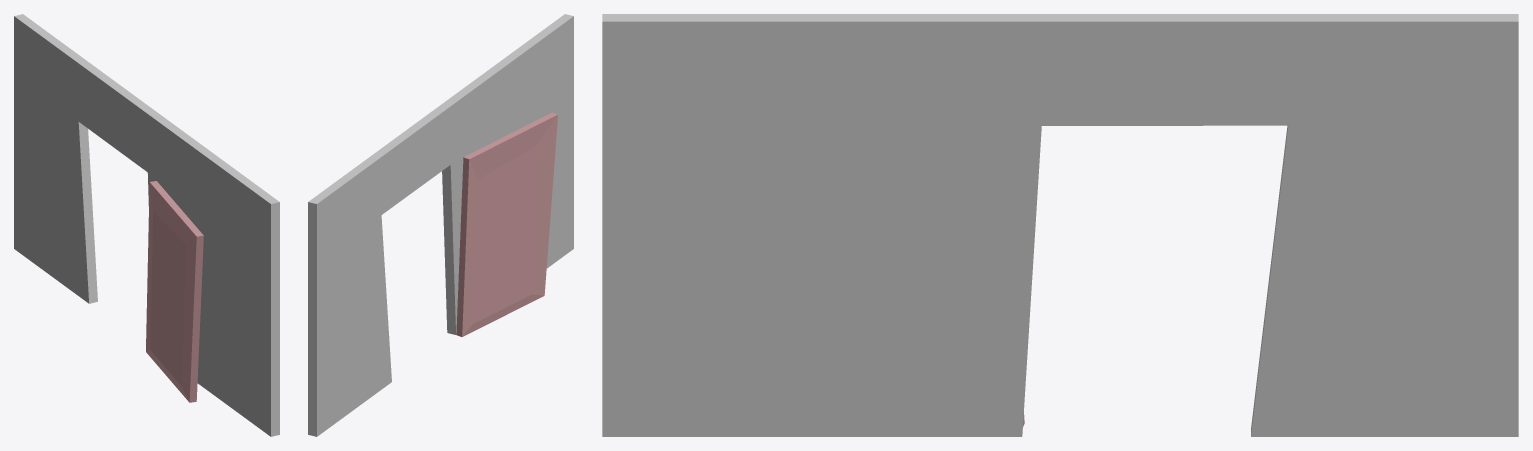
File: DoorsRoomSwingGroup.fbx
3 views of the same model, side by side, from view 1: azimuth 30°, elevation 25°; view 2: azimuth 150°, elevation 25°; view 3: azimuth 270°, elevation 25° (orthographic). The views are drawn at different scales.
Visible parts, largest first — view 1: SolidRoom_001, SwingingDoor; view 2: SolidRoom_001, SwingingDoor; view 3: SolidRoom_001.
Part boxes in pixels (x1=…): SolidRoom_001: x1=14, y1=14, x2=279, y2=436; SwingingDoor: x1=146, y1=181, x2=203, y2=402; SolidRoom_001: x1=308, y1=14, x2=573, y2=436; SwingingDoor: x1=456, y1=112, x2=557, y2=336; SolidRoom_001: x1=602, y1=14, x2=1518, y2=436.
Size of the model in its own units: 1.71 by 10 by 20.
